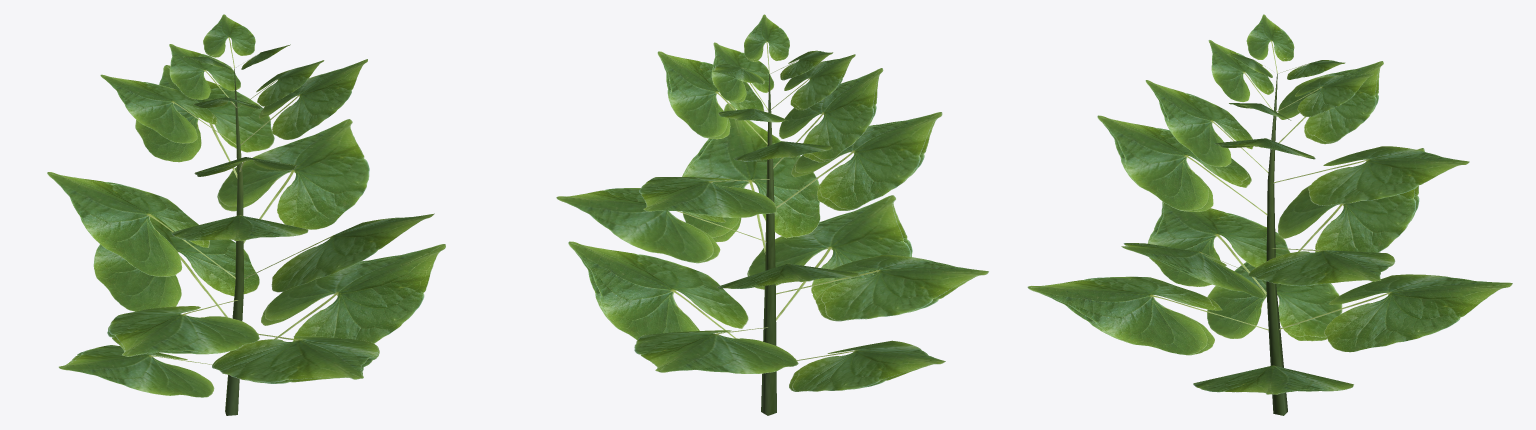
Rendered from Plant_09.FBX.
The picture shows the model from 3 angles, left to right: view 1: azimuth 30°, elevation 25°; view 2: azimuth 150°, elevation 25°; view 3: azimuth 270°, elevation 25°; orthographic projection. The views are drawn at different scales.
Visible parts, largest first — view 1: Plant_09; view 2: Plant_09; view 3: Plant_09.
Part boxes in pixels (x1,y1,x2,y2): Plant_09: (47,14,445,415); Plant_09: (556,14,988,415); Plant_09: (1027,14,1512,415).
Bounding box in the file's own units: 1.21 × 1.06 × 1.28.
